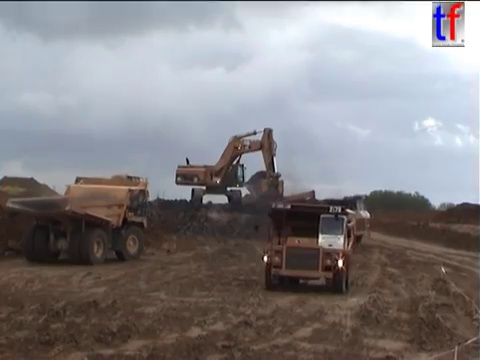excavator: (172, 125, 286, 211), (236, 188, 319, 220)
truck: (4, 178, 148, 266), (259, 199, 355, 294), (265, 195, 372, 247), (71, 172, 151, 210)
